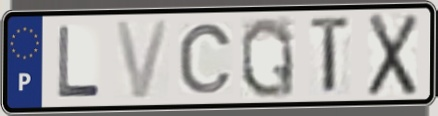C: (176, 21, 235, 97)
L: (55, 24, 103, 100)
Q: (238, 14, 297, 101)
T: (307, 13, 355, 98)
V: (112, 17, 173, 102)
X: (365, 11, 421, 99)
